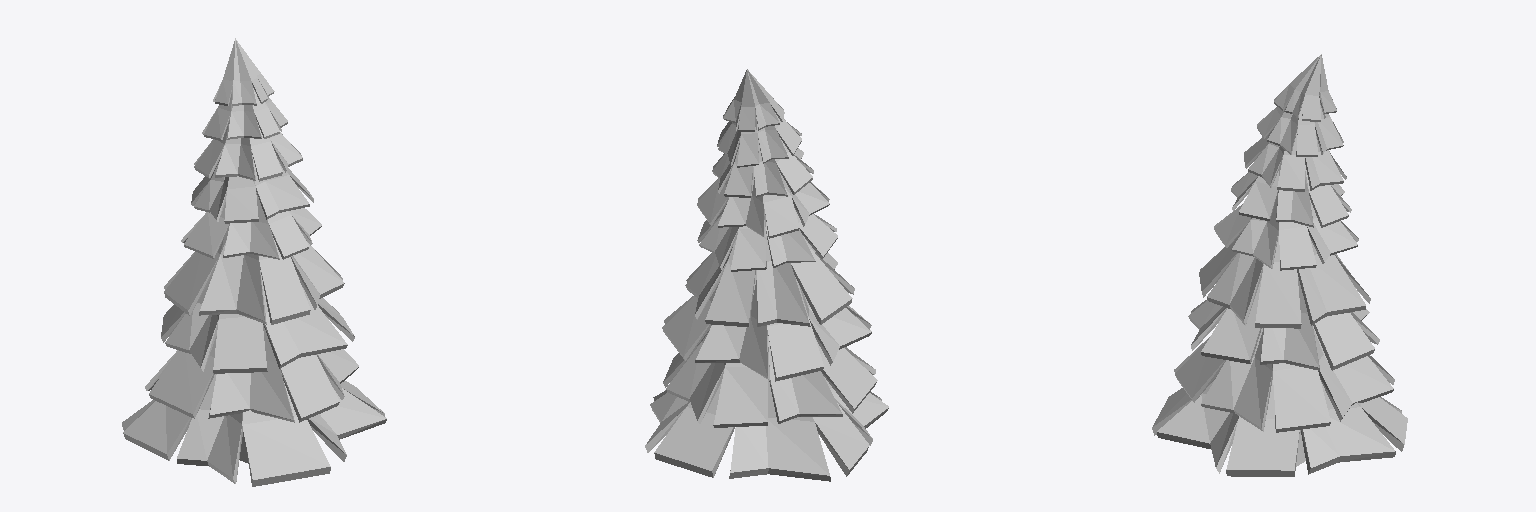
File: tree.obj
The picture shows the model from 3 angles: view 1: azimuth 30°, elevation 25°; view 2: azimuth 150°, elevation 25°; view 3: azimuth 270°, elevation 25°; orthographic projection.
Visible parts, largest first — view 1: spruce_3_Cylinder.003; view 2: spruce_3_Cylinder.003; view 3: spruce_3_Cylinder.003.
Boxes of the visible parts, <box> form: spruce_3_Cylinder.003: <box>122,38,386,486</box>; spruce_3_Cylinder.003: <box>645,69,888,481</box>; spruce_3_Cylinder.003: <box>1152,54,1407,476</box>.
Size of the model in its own units: 6.13 by 11.05 by 6.34.